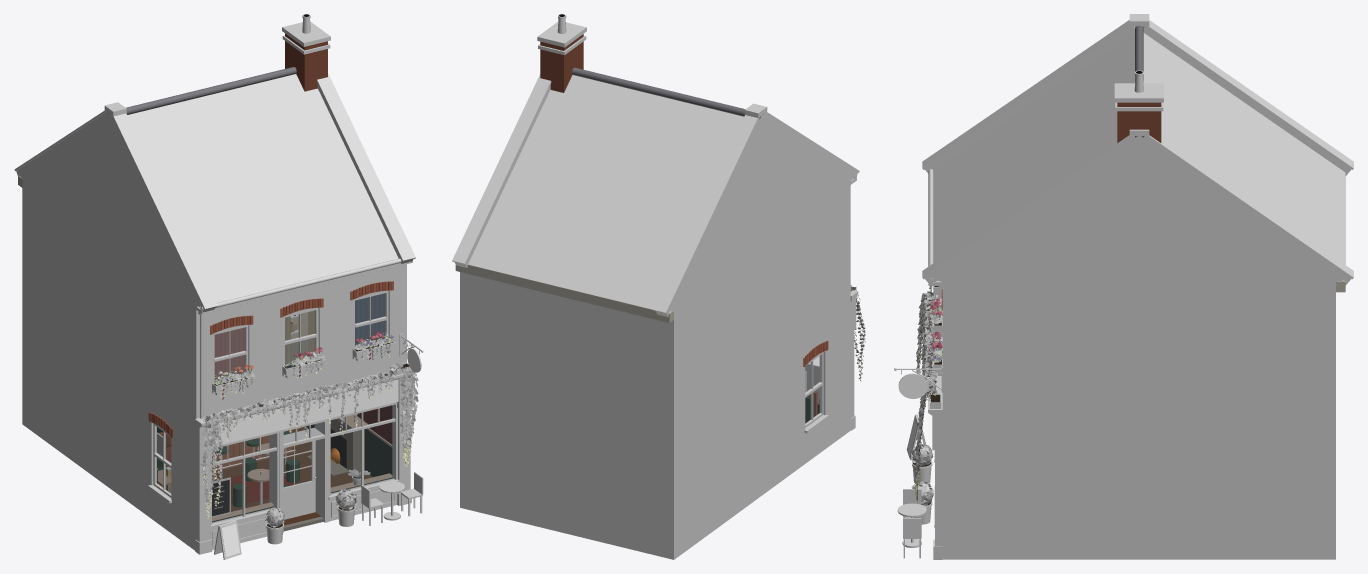
File: LibraryRow_Neighbor3.glb
3 renders of one model, left to right at view 1: azimuth 30°, elevation 25°; view 2: azimuth 150°, elevation 25°; view 3: azimuth 270°, elevation 25°, orthographic. The views are drawn at different scales.
Visible parts, largest first — view 1: LibraryRow_Neighbor3; view 2: LibraryRow_Neighbor3; view 3: LibraryRow_Neighbor3.
Boxes of the visible parts, x1,y1,x2,y2 form: LibraryRow_Neighbor3: (14, 14, 423, 559); LibraryRow_Neighbor3: (452, 14, 865, 559); LibraryRow_Neighbor3: (894, 14, 1353, 559).
Size of what is drawn, in the model's own units: 5.8 by 10.77 by 9.35.
